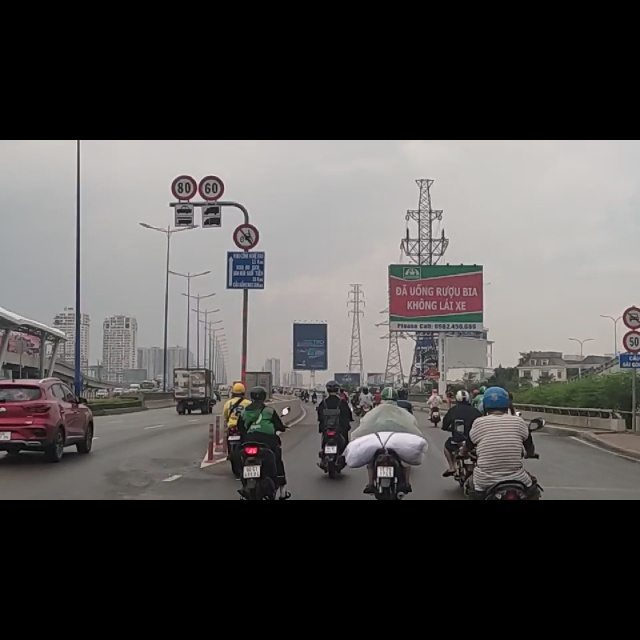bien_cam: (233, 141, 261, 198), (173, 64, 199, 114), (199, 63, 225, 108), (621, 295, 640, 335), (623, 341, 640, 382)
